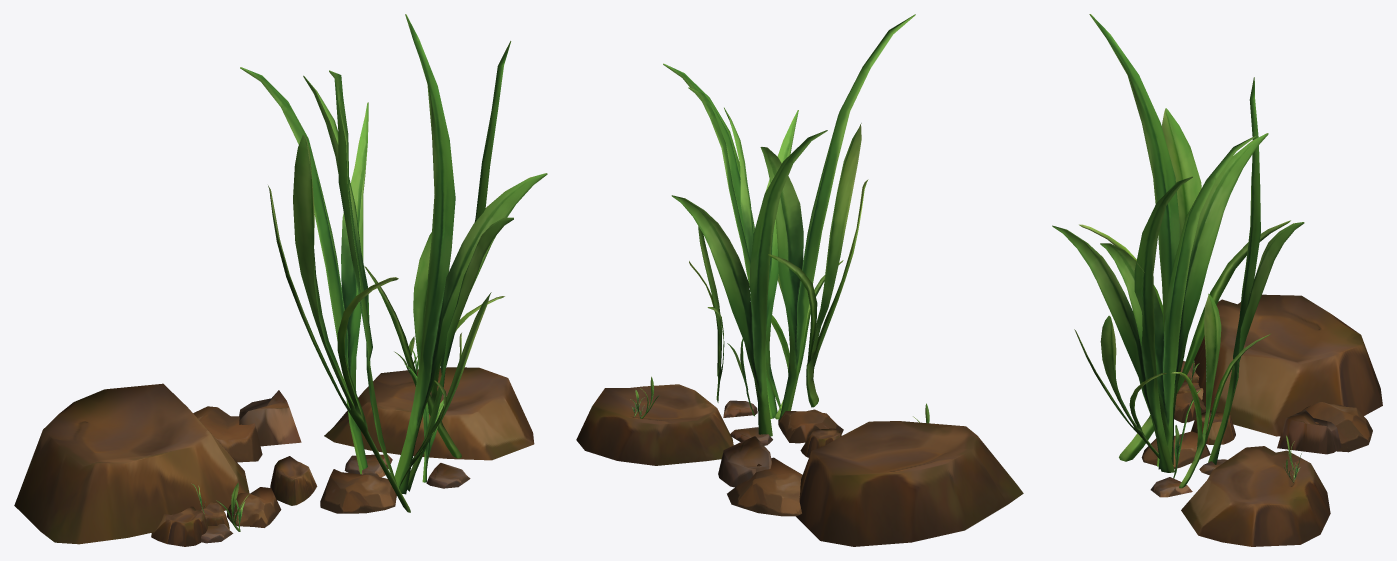
3 views of the same model, side by side, from view 1: azimuth 30°, elevation 25°; view 2: azimuth 150°, elevation 25°; view 3: azimuth 270°, elevation 25° (orthographic). The views are drawn at different scales.
Visible parts, largest first — view 1: Plane.027, Plane.028, Plane.039, Grass_00.002, Plane.029, Plane.037, Plane.036, Grass_00.003, Plane.040, Plane.035, Plane.030, Plane.034 (+4 smaller); view 2: Plane.027, Plane.028, Plane.037, Plane.029, Grass_00.002, Plane.030, Plane.036, Plane.039, Plane.035, Plane.040, Grass_00.003, Grass_00.001 (+1 smaller); view 3: Plane.027, Plane.028, Plane.037, Plane.036, Plane.039, Grass_00.002, Plane.029, Grass_00.003, Plane.035, Plane.030, Grass_00.001, Plane.040 (+3 smaller).
Boxes of the visible parts, x1=… form: Plane.027: x1=14, y1=383, x2=249, y2=544; Plane.028: x1=324, y1=367, x2=534, y2=460; Plane.039: x1=394, y1=14, x2=547, y2=494; Grass_00.002: x1=268, y1=134, x2=410, y2=512; Plane.029: x1=240, y1=67, x2=368, y2=474; Plane.037: x1=303, y1=70, x2=397, y2=485; Plane.036: x1=407, y1=41, x2=513, y2=491; Grass_00.003: x1=364, y1=232, x2=504, y2=458; Plane.040: x1=320, y1=469, x2=396, y2=513; Plane.035: x1=239, y1=390, x2=301, y2=446; Plane.030: x1=193, y1=406, x2=262, y2=462; Plane.034: x1=270, y1=456, x2=317, y2=505; Plane.027: x1=796, y1=421, x2=1023, y2=546; Plane.028: x1=576, y1=384, x2=733, y2=465; Plane.037: x1=760, y1=14, x2=915, y2=420; Plane.029: x1=671, y1=130, x2=827, y2=436; Grass_00.002: x1=768, y1=123, x2=868, y2=407; Plane.030: x1=727, y1=457, x2=802, y2=516; Plane.036: x1=663, y1=63, x2=798, y2=418; Plane.039: x1=688, y1=87, x2=782, y2=415; Plane.035: x1=718, y1=436, x2=771, y2=487; Plane.040: x1=778, y1=409, x2=843, y2=443; Grass_00.003: x1=689, y1=226, x2=724, y2=402; Grass_00.001: x1=750, y1=260, x2=843, y2=419; Plane.027: x1=1194, y1=294, x2=1382, y2=436; Plane.028: x1=1181, y1=446, x2=1330, y2=546; Plane.037: x1=1089, y1=14, x2=1268, y2=466; Plane.036: x1=1052, y1=176, x2=1192, y2=472; Plane.039: x1=1100, y1=135, x2=1256, y2=469; Grass_00.002: x1=1079, y1=108, x2=1290, y2=461; Plane.029: x1=1208, y1=77, x2=1304, y2=464; Grass_00.003: x1=1171, y1=293, x2=1270, y2=488; Plane.035: x1=1277, y1=409, x2=1341, y2=454; Plane.030: x1=1302, y1=402, x2=1372, y2=452; Grass_00.001: x1=1074, y1=315, x2=1166, y2=458; Plane.040: x1=1141, y1=431, x2=1210, y2=468.
Size of the model in its own units: 0.0626 by 0.0599 by 0.0432.
Materials: 5 (5 with a texture image).
